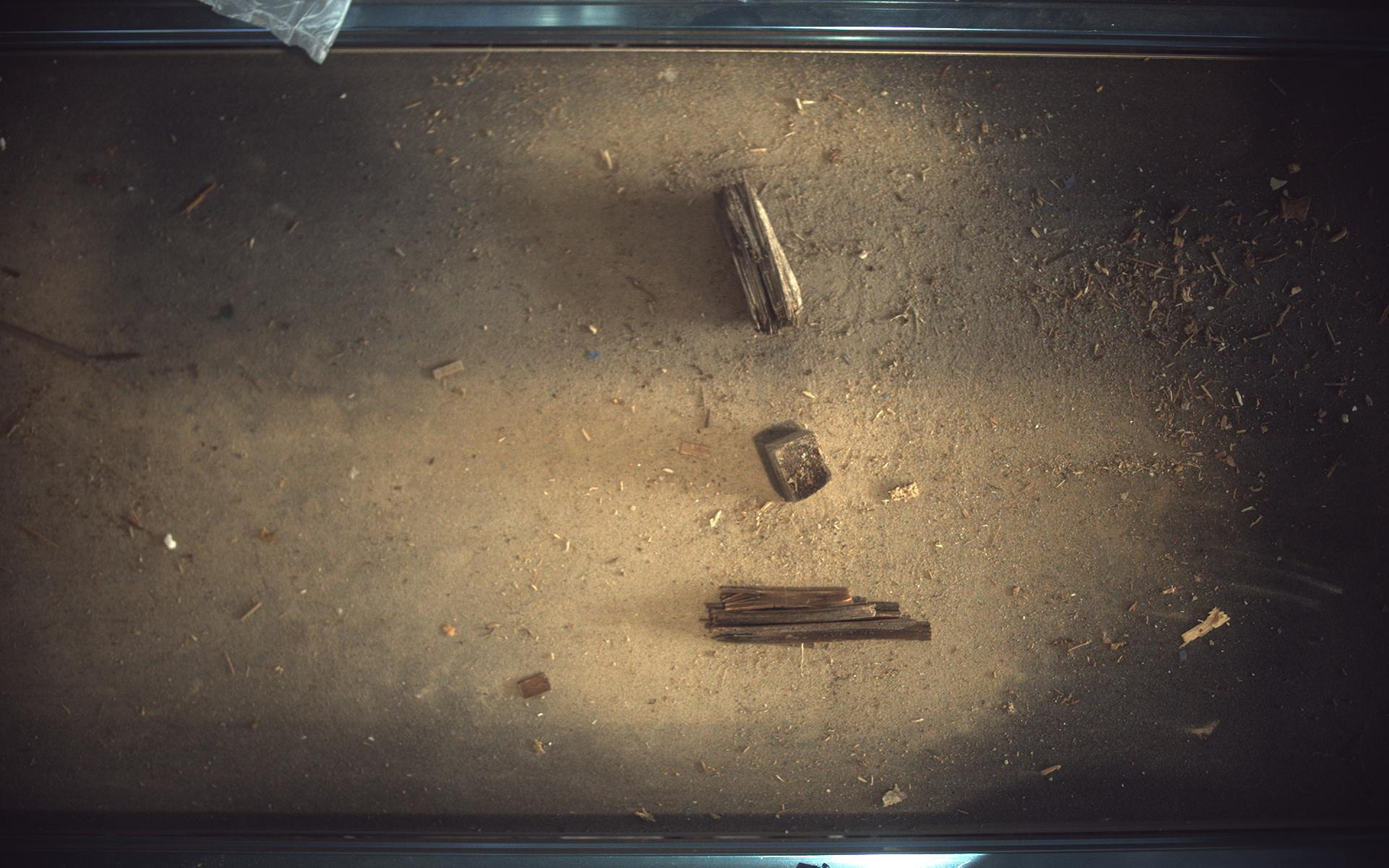wood: (717, 178, 804, 332), (708, 587, 933, 644), (755, 420, 833, 502)
